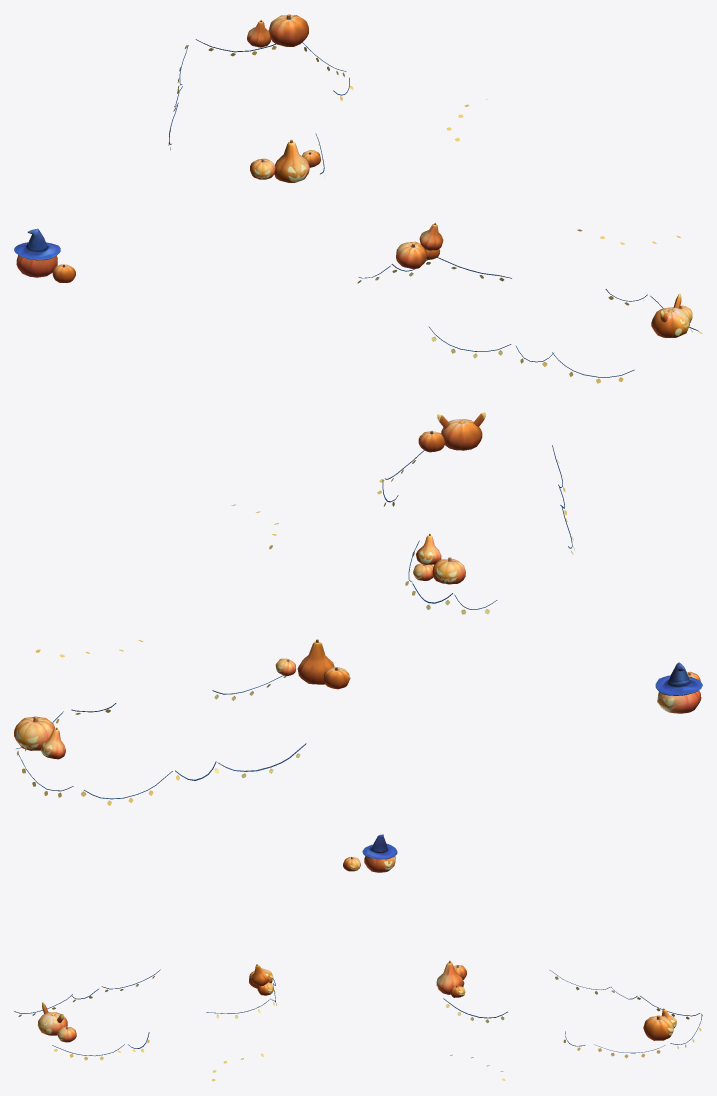
File: pref_sm_4v4beachtech_WSJ_bk_decorate_C02_lv0.fbx
3 renders of one model, top to bottom at view 1: azimuth 30°, elevation 25°; view 2: azimuth 150°, elevation 25°; view 3: azimuth 270°, elevation 25°, orthographic. The views are drawn at different scales.
Parts seen in each view (by area): view 1: sm_4v4beachtech_WSJ_bk_decorate_C02_b_lv0, sm_4v4beachtech_WSJ_bk_decorate_C02_a_lv0; view 2: sm_4v4beachtech_WSJ_bk_decorate_C02_b_lv0, sm_4v4beachtech_WSJ_bk_decorate_C02_a_lv0; view 3: sm_4v4beachtech_WSJ_bk_decorate_C02_b_lv0, sm_4v4beachtech_WSJ_bk_decorate_C02_a_lv0.
Boxes of the visible parts, x1,y1,x2,y2 form: sm_4v4beachtech_WSJ_bk_decorate_C02_b_lv0: (14,14,692,337); sm_4v4beachtech_WSJ_bk_decorate_C02_a_lv0: (168,39,702,383); sm_4v4beachtech_WSJ_bk_decorate_C02_b_lv0: (14,412,702,759); sm_4v4beachtech_WSJ_bk_decorate_C02_a_lv0: (16,445,574,805); sm_4v4beachtech_WSJ_bk_decorate_C02_b_lv0: (37,834,676,1042); sm_4v4beachtech_WSJ_bk_decorate_C02_a_lv0: (14,969,702,1081).
Bounding box in the file's own units: 24.31 × 3.14 × 34.01.
